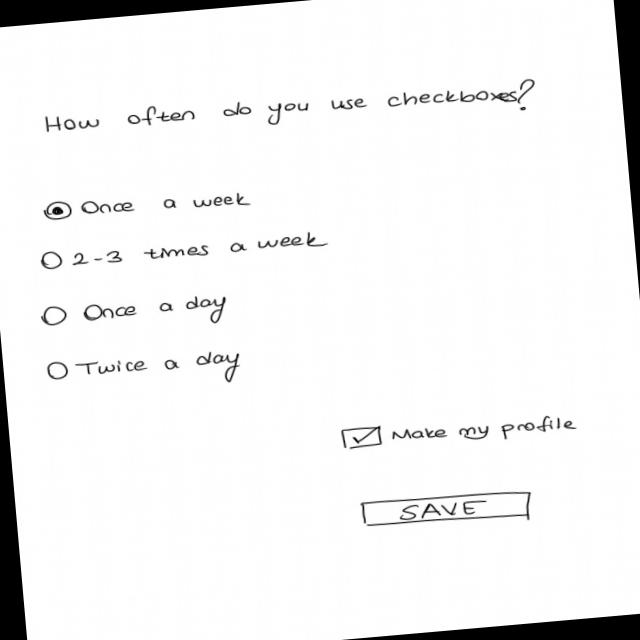button: (356, 484, 536, 531)
checkbox: (338, 406, 580, 456)
label: (41, 70, 540, 155)
radio: (39, 225, 330, 272), (42, 344, 242, 398), (39, 289, 229, 338), (42, 183, 253, 224)
